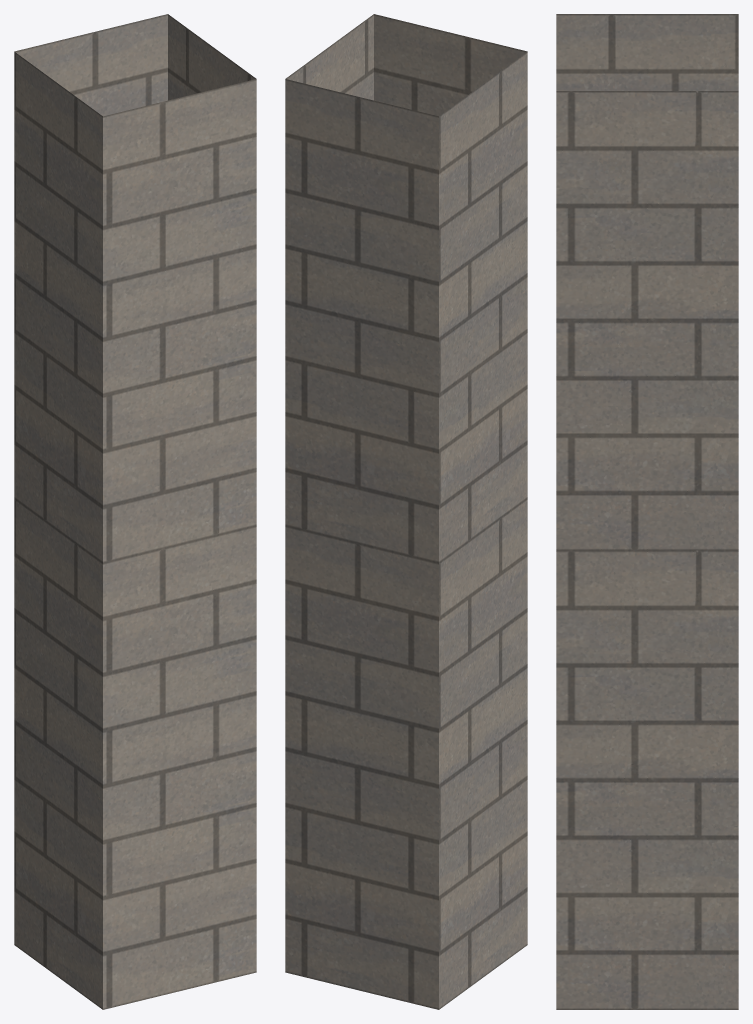
Rendered from WhiteBrick_Column.gltf.
3 views of the same model, side by side, from view 1: azimuth 30°, elevation 25°; view 2: azimuth 150°, elevation 25°; view 3: azimuth 270°, elevation 25° (orthographic). The views are drawn at different scales.
Visible parts, largest first — view 1: WhiteBrick_Column; view 2: WhiteBrick_Column; view 3: WhiteBrick_Column.
Part boxes in pixels (box(x1,y1,x2,y2)): WhiteBrick_Column: box(14, 14, 256, 1009); WhiteBrick_Column: box(285, 14, 527, 1009); WhiteBrick_Column: box(556, 14, 738, 1009).
Bounding box in the file's own units: 0.72 × 4 × 0.72.
1 material, 1 textured.
